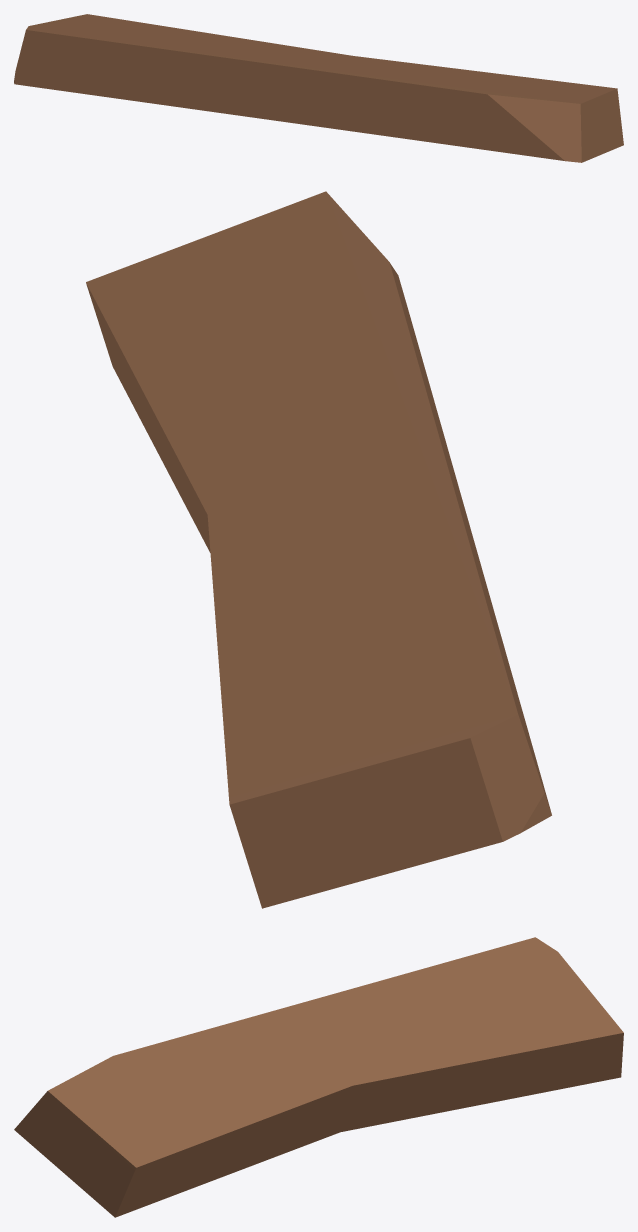
File: WoodCellCube_003_cell_018.fbx
3 renders of one model, top to bottom at view 1: azimuth 30°, elevation 25°; view 2: azimuth 150°, elevation 25°; view 3: azimuth 270°, elevation 25°, orthographic. The views are drawn at different scales.
Parts seen in each view (by area): view 1: WoodCellCube_003_cell_018; view 2: WoodCellCube_003_cell_018; view 3: WoodCellCube_003_cell_018.
Boxes of the visible parts, box(x1,y1,x2,y2) form: WoodCellCube_003_cell_018: box(14, 14, 623, 162); WoodCellCube_003_cell_018: box(86, 191, 551, 908); WoodCellCube_003_cell_018: box(14, 937, 623, 1217).
Size of the model in its own units: 2.31 by 0.4693 by 1.94.
1 material, 1 textured.
